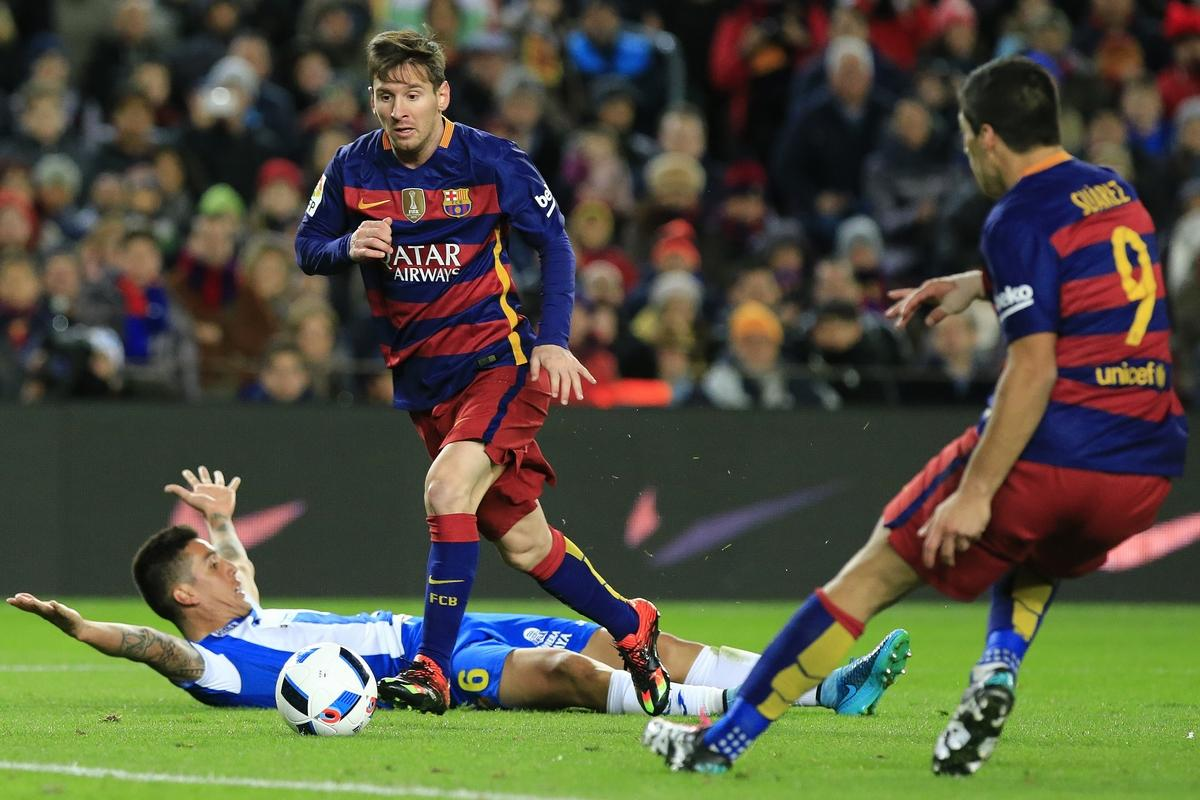bending: (661, 26, 1189, 777)
down: (29, 439, 939, 755)
up: (289, 24, 688, 720)
